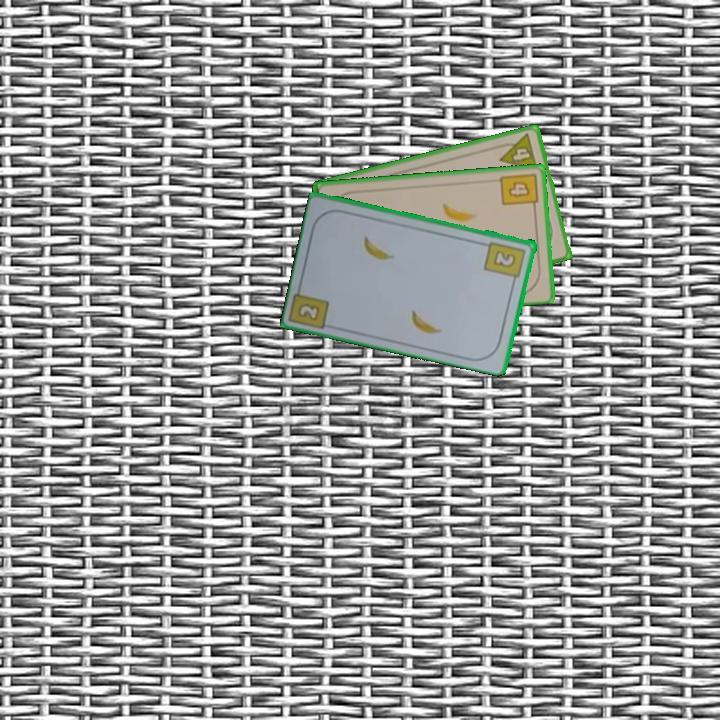2b: (481, 238, 528, 286), (296, 301, 323, 323)
4b: (497, 169, 540, 213)
4p: (493, 130, 541, 174)
